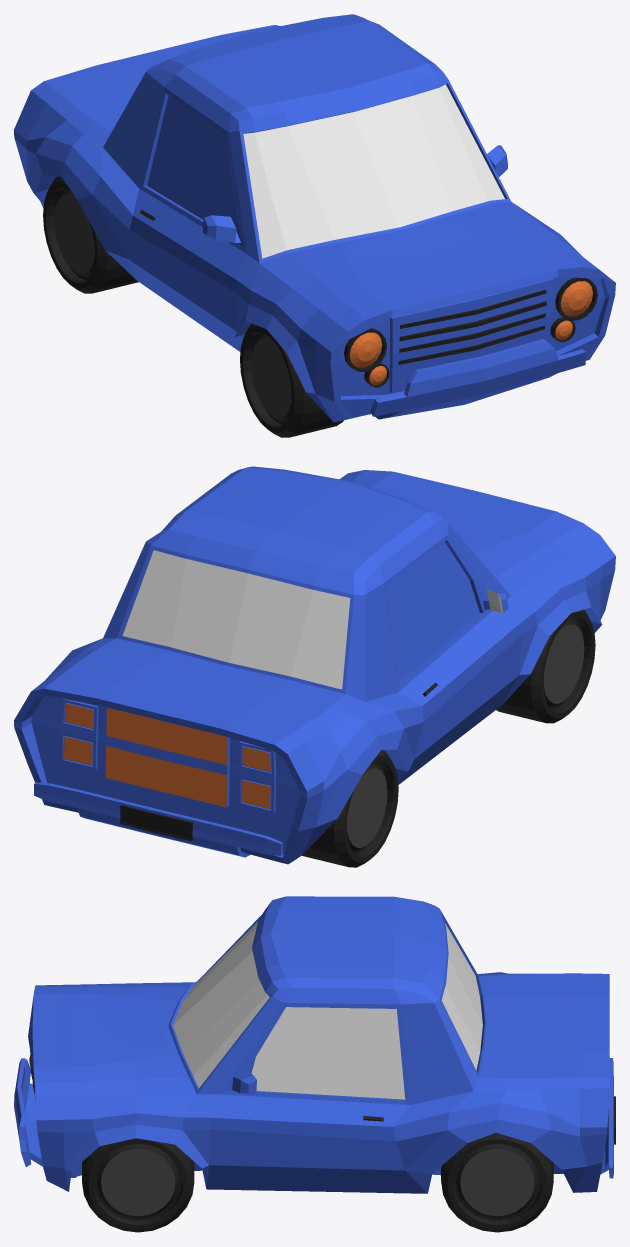
File: Car.fbx
The picture shows the model from 3 angles, top to bottom: view 1: azimuth 30°, elevation 25°; view 2: azimuth 150°, elevation 25°; view 3: azimuth 270°, elevation 25°; orthographic projection. The views are drawn at different scales.
Visible parts, largest first — view 1: Car; view 2: Car; view 3: Car.
Part boxes in pixels (x1,y1,x2,y2): Car: (14,14,615,437); Car: (14,466,615,867); Car: (14,896,615,1232).
Size of the model in its own units: 42.99 by 32.96 by 76.84.
